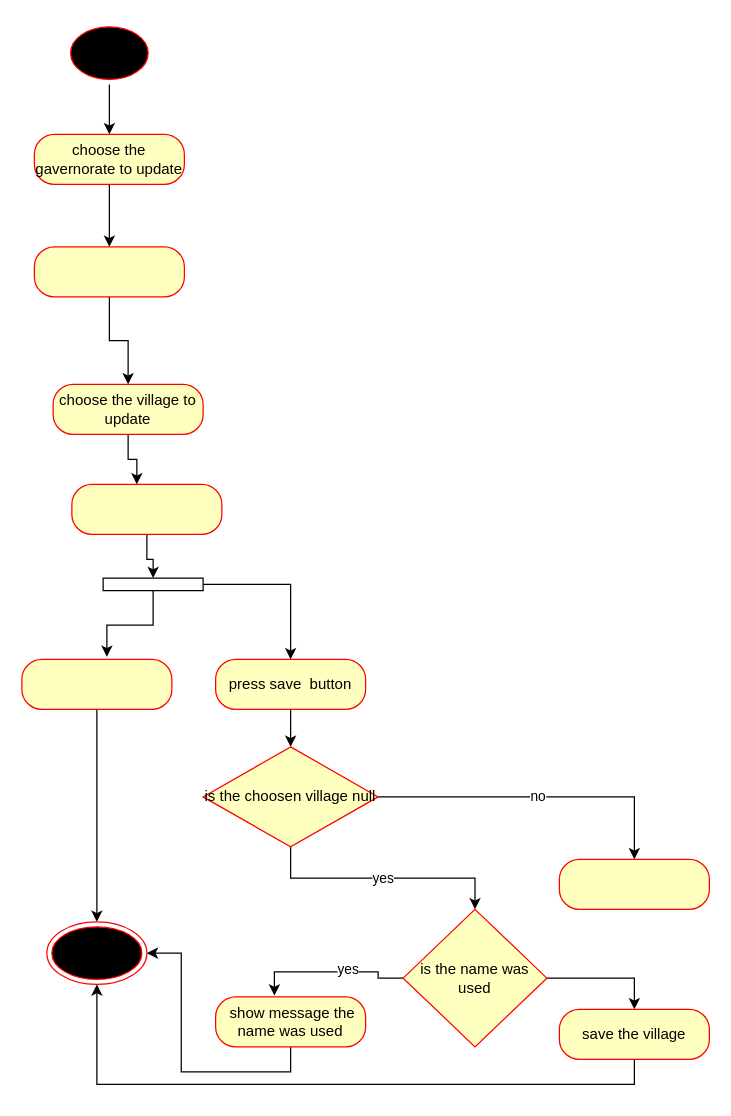
This 731x1116 diagram has some shape labels left out. Each missing label, with the centre of its shape:
choose the city to update: (x=108, y=271)
delete village: (x=96, y=683)
enter the name: (x=146, y=508)
show message the village update: (x=633, y=883)
